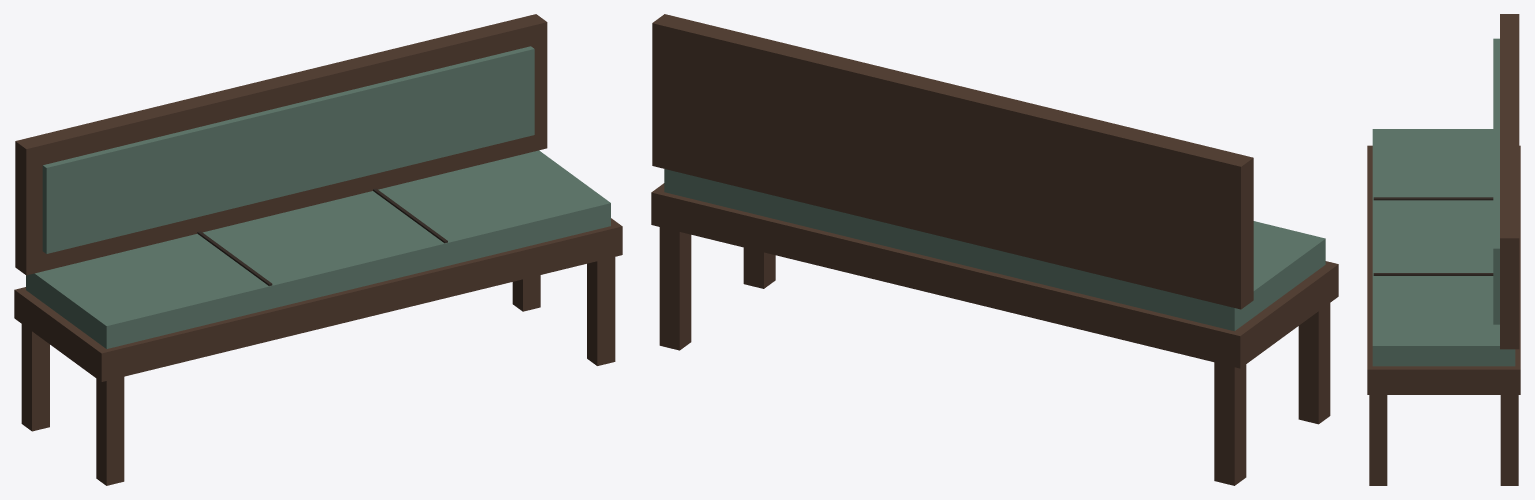
The model's file is LP_WaitingBench.fbx.
3 renders of one model, left to right at view 1: azimuth 30°, elevation 25°; view 2: azimuth 150°, elevation 25°; view 3: azimuth 270°, elevation 25°, orthographic. The views are drawn at different scales.
Visible parts, largest first — view 1: SageUpholstery, Walnut, RecessedWalnut; view 2: Walnut, SageUpholstery; view 3: SageUpholstery, Walnut, RecessedWalnut.
Boxes of the visible parts, <box> form: SageUpholstery: <box>26,46,610,348</box>; Walnut: <box>14,14,622,485</box>; RecessedWalnut: <box>197,188,447,285</box>; Walnut: <box>651,14,1338,485</box>; SageUpholstery: <box>664,169,1325,331</box>; SageUpholstery: <box>1372,38,1515,366</box>; Walnut: <box>1367,14,1520,485</box>; RecessedWalnut: <box>1373,197,1493,275</box>.
Bounding box in the file's own units: 190 × 99 × 55.
